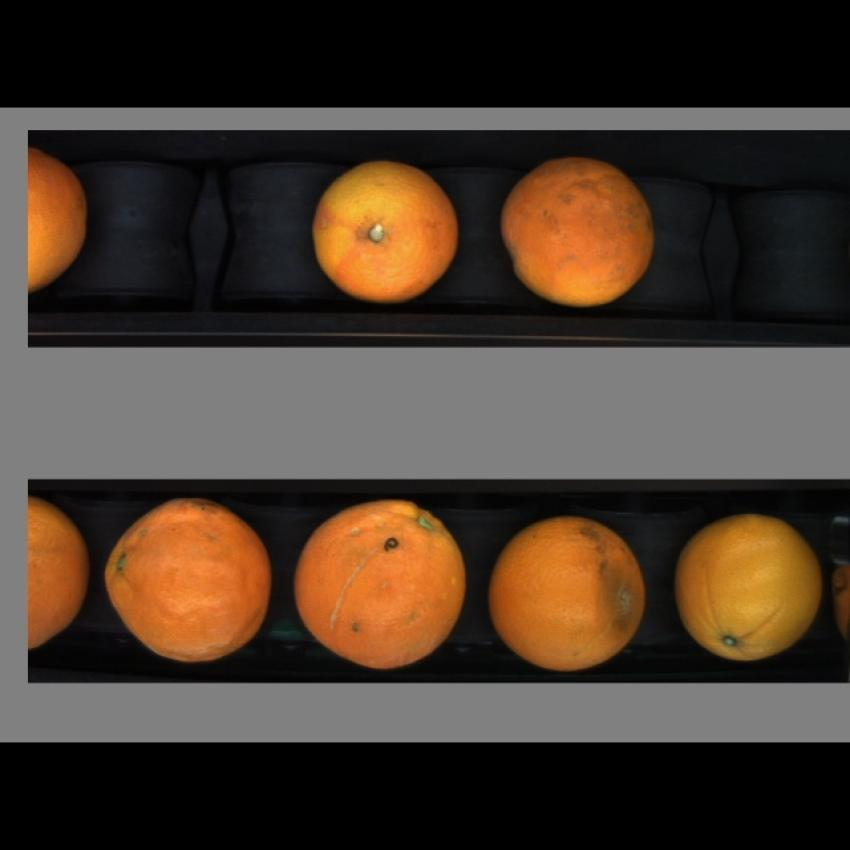Buen estado: (673, 506, 824, 662), (309, 155, 465, 304), (29, 488, 93, 668), (29, 147, 93, 303)
Mal estado: (292, 500, 475, 669), (102, 490, 280, 663), (488, 508, 647, 674), (499, 153, 658, 308)
